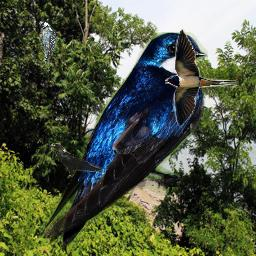Crow: (49, 143, 103, 179)
Swallow: (39, 32, 208, 249), (165, 28, 239, 128)
Woodpecker: (40, 22, 56, 66)
